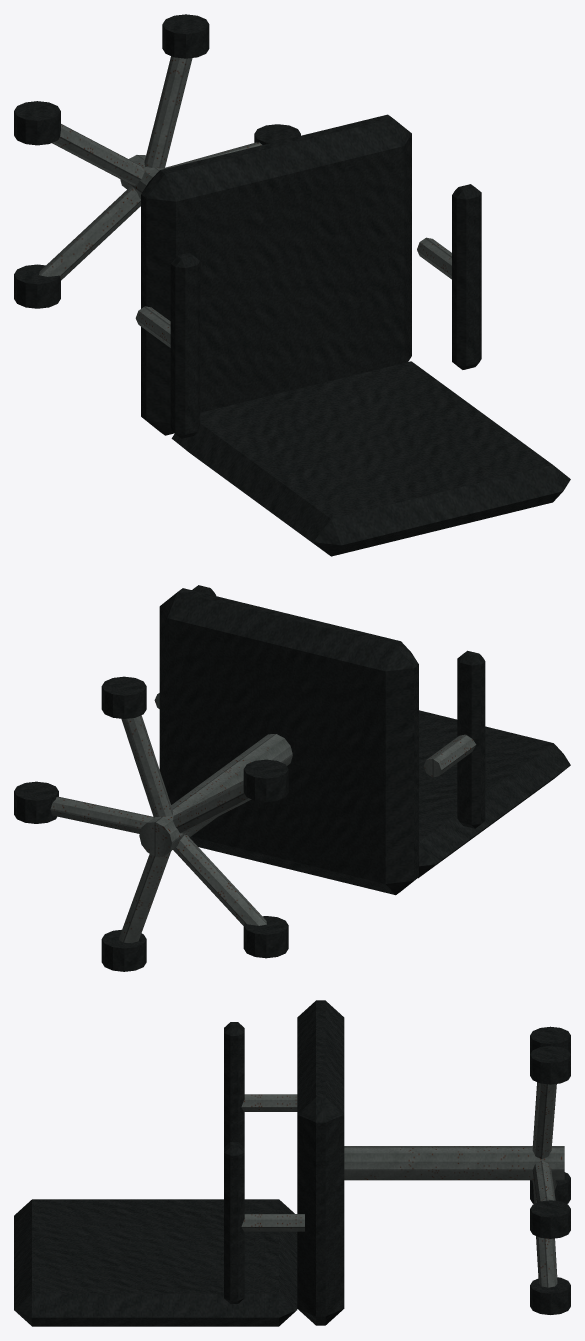
File: kit-operator_chair.obj
3 renders of one model, top to bottom at view 1: azimuth 30°, elevation 25°; view 2: azimuth 150°, elevation 25°; view 3: azimuth 270°, elevation 25°, orthographic. The views are drawn at different scales.
Parts seen in each view (by area): view 1: Reusable.operator_chair; view 2: Reusable.operator_chair; view 3: Reusable.operator_chair.
Part boxes in pixels (x1=…): Reusable.operator_chair: x1=14, y1=14, x2=570, y2=556; Reusable.operator_chair: x1=14, y1=585, x2=570, y2=971; Reusable.operator_chair: x1=14, y1=1000, x2=570, y2=1326.
Bounding box in the file's own units: 1.96 × 1.77 × 3.54.
2 materials, 2 textured.
